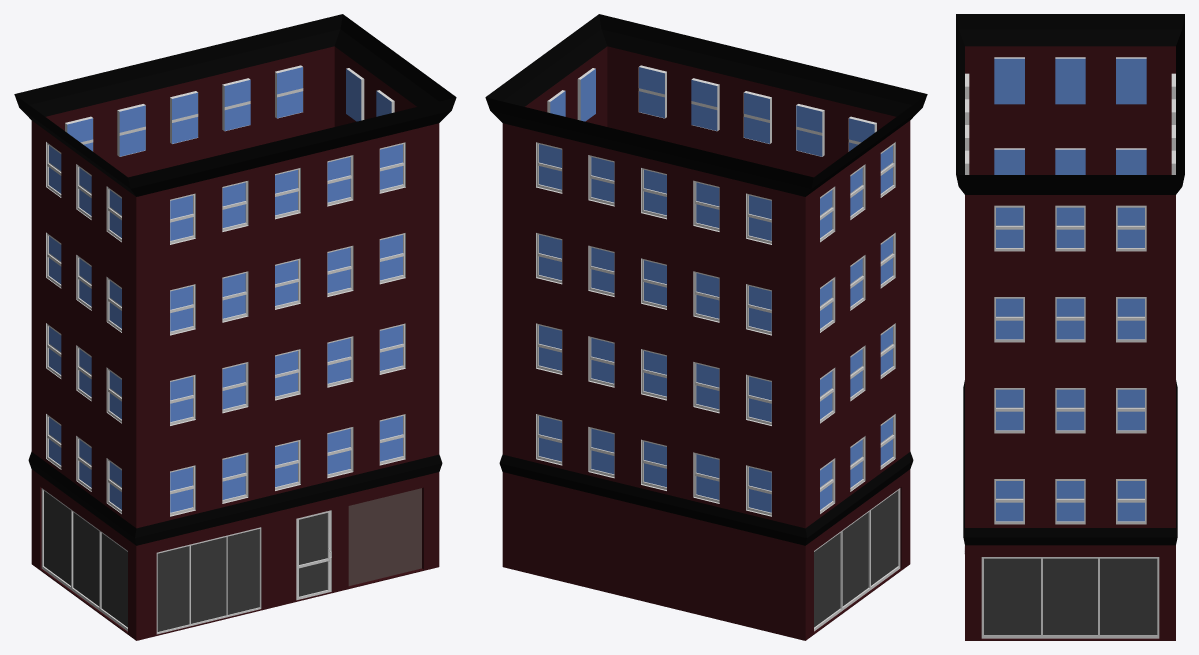
The model's file is building10-1.fbx.
3 renders of one model, left to right at view 1: azimuth 30°, elevation 25°; view 2: azimuth 150°, elevation 25°; view 3: azimuth 270°, elevation 25°, orthographic.
Visible parts, largest first — view 1: building1.001; view 2: building1.001; view 3: building1.001.
Part boxes in pixels (left/top/right/bottom): building1.001: left=14, top=14, right=456, bottom=640; building1.001: left=485, top=14, right=927, bottom=640; building1.001: left=956, top=14, right=1184, bottom=640.
Size of the model in its own units: 2505 by 3423 by 1503.
